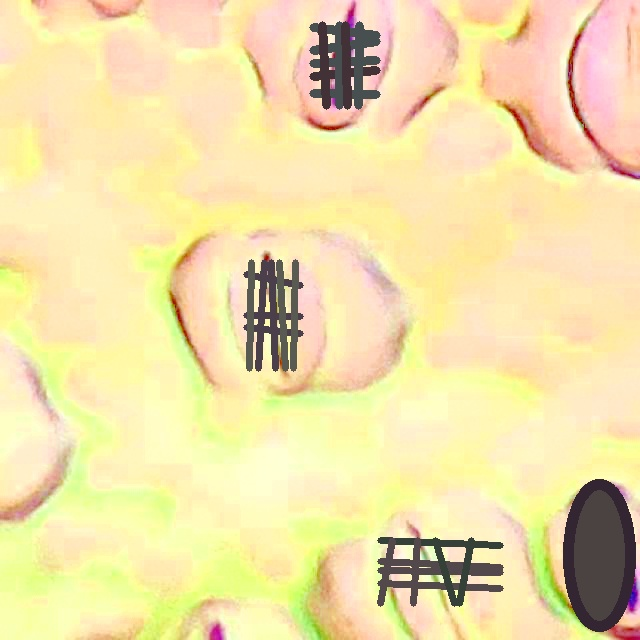close: (377, 537, 503, 606)
open: (564, 480, 634, 630), (244, 259, 302, 371), (309, 21, 380, 109)
